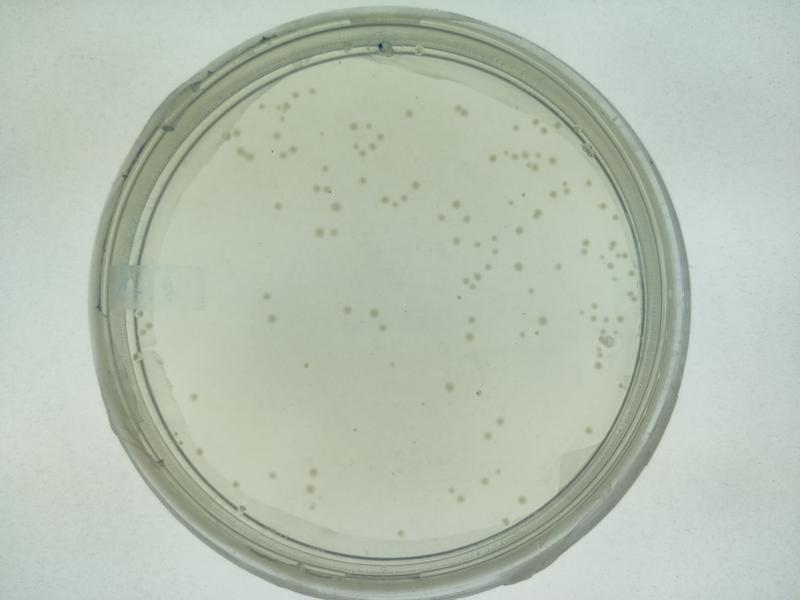colony: (260, 304, 287, 333), (185, 385, 211, 412), (264, 195, 288, 222), (335, 298, 359, 325), (439, 376, 462, 402), (327, 194, 348, 222), (458, 330, 486, 349), (443, 192, 467, 214), (340, 113, 362, 137), (363, 296, 384, 321), (401, 102, 419, 131), (476, 424, 498, 447), (511, 220, 532, 244), (308, 218, 327, 244), (511, 256, 530, 281), (445, 231, 467, 252), (404, 173, 428, 192), (472, 472, 494, 492), (353, 170, 375, 189), (300, 479, 320, 499), (534, 307, 553, 328)
